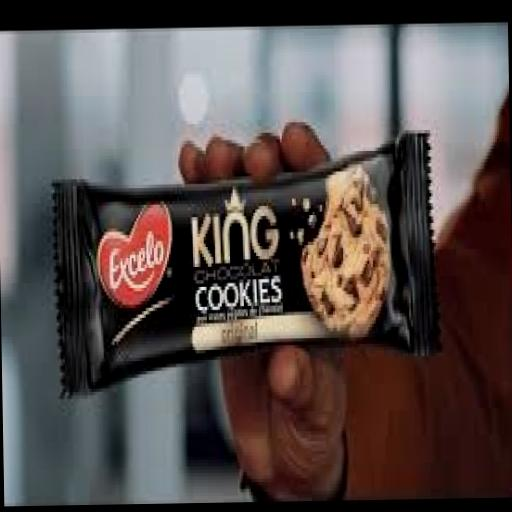king_cooking: (32, 88, 476, 450)
